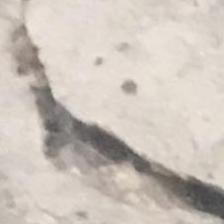Crack: (10, 28, 224, 219)
